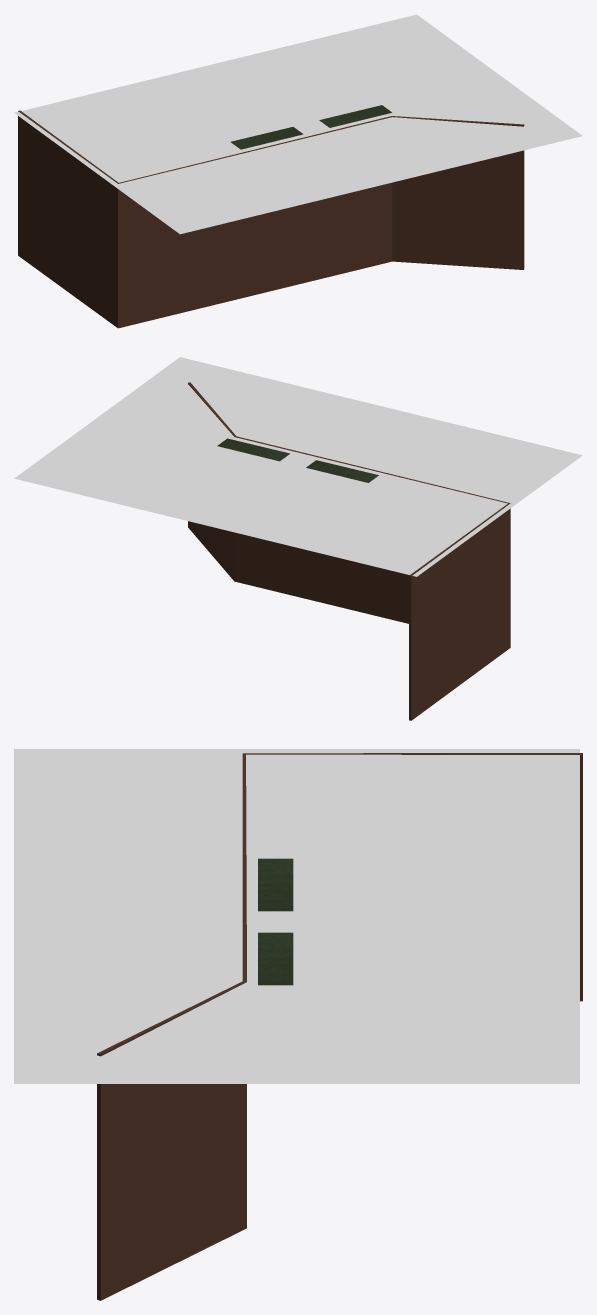
The model's file is backGas.fbx.
The picture shows the model from 3 angles, top to bottom: view 1: azimuth 30°, elevation 25°; view 2: azimuth 150°, elevation 25°; view 3: azimuth 270°, elevation 25°; orthographic projection. The views are drawn at different scales.
Parts seen in each view (by area): view 1: floor, walls, dumpster 1.001, dumpster 1; view 2: floor, walls, dumpster 1.001, dumpster 1; view 3: floor, walls, dumpster 1.001, dumpster 1.
Boxes of the visible parts, x1,y1,x2,y2 form: floor: [14, 14, 582, 234]; walls: [18, 110, 524, 328]; dumpster 1.001: [319, 105, 391, 127]; dumpster 1: [231, 127, 303, 149]; floor: [14, 357, 582, 576]; walls: [188, 382, 510, 720]; dumpster 1.001: [217, 438, 289, 461]; dumpster 1: [306, 460, 378, 482]; floor: [14, 749, 579, 1083]; walls: [97, 753, 582, 1300]; dumpster 1.001: [258, 932, 293, 985]; dumpster 1: [258, 858, 293, 911].
Size of the model in its own units: 9100 by 3142 by 6531.
3 materials, 2 textured.
